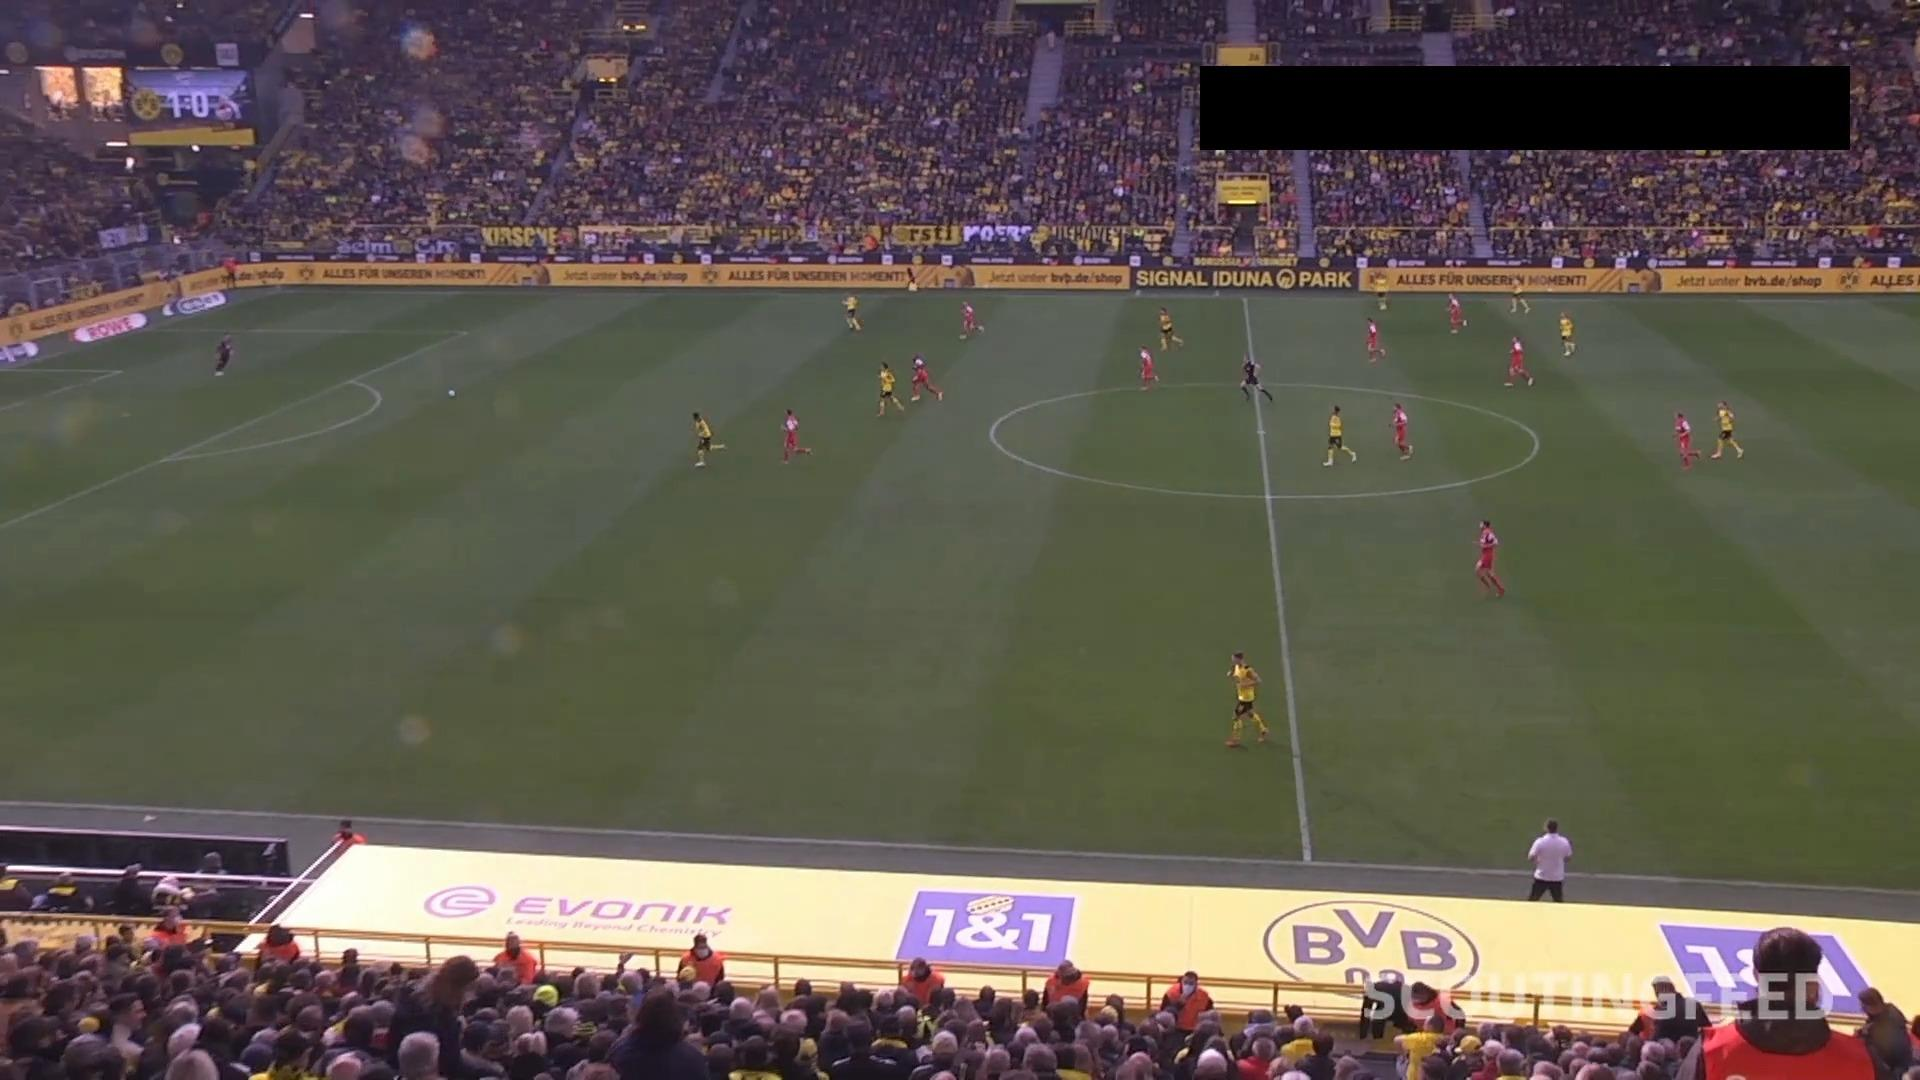ball: (447, 388, 455, 398)
fan: (1629, 975, 1711, 1044), (257, 842, 287, 887)
player: (1223, 650, 1269, 747), (1473, 518, 1505, 598), (1321, 403, 1356, 467), (1710, 399, 1743, 459), (779, 407, 812, 464), (1503, 333, 1534, 387), (908, 354, 942, 402), (875, 360, 904, 416), (1672, 410, 1699, 468), (690, 410, 714, 467), (1390, 401, 1413, 460), (1157, 305, 1183, 351), (957, 299, 983, 340), (1364, 316, 1386, 361), (1137, 343, 1158, 390), (212, 332, 233, 376), (1445, 292, 1467, 333), (1507, 277, 1530, 314), (1557, 310, 1575, 357), (841, 293, 861, 331), (1372, 272, 1389, 311)
referee: (1526, 818, 1572, 902), (1239, 353, 1273, 402), (221, 254, 239, 288), (904, 264, 918, 291)
